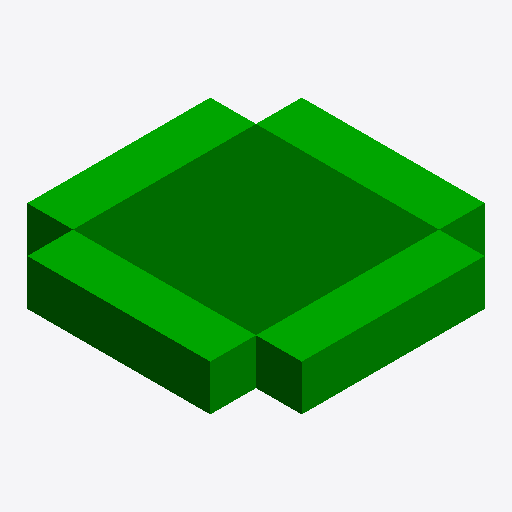
Isometric view (azimuth 45°, elevation 35.3°) of a Minecraft model made of 3 cuboids, textured from the same repository.
Parts seen in each view (by area): Gem1, Gem3, Gem2.
Boxes of the visible parts, box(x1,y1,x2,y2) form: Gem1: box(27, 98, 484, 413); Gem3: box(256, 230, 484, 413); Gem2: box(27, 98, 254, 255).
Size of the model in its own units: 6 by 1 by 6.